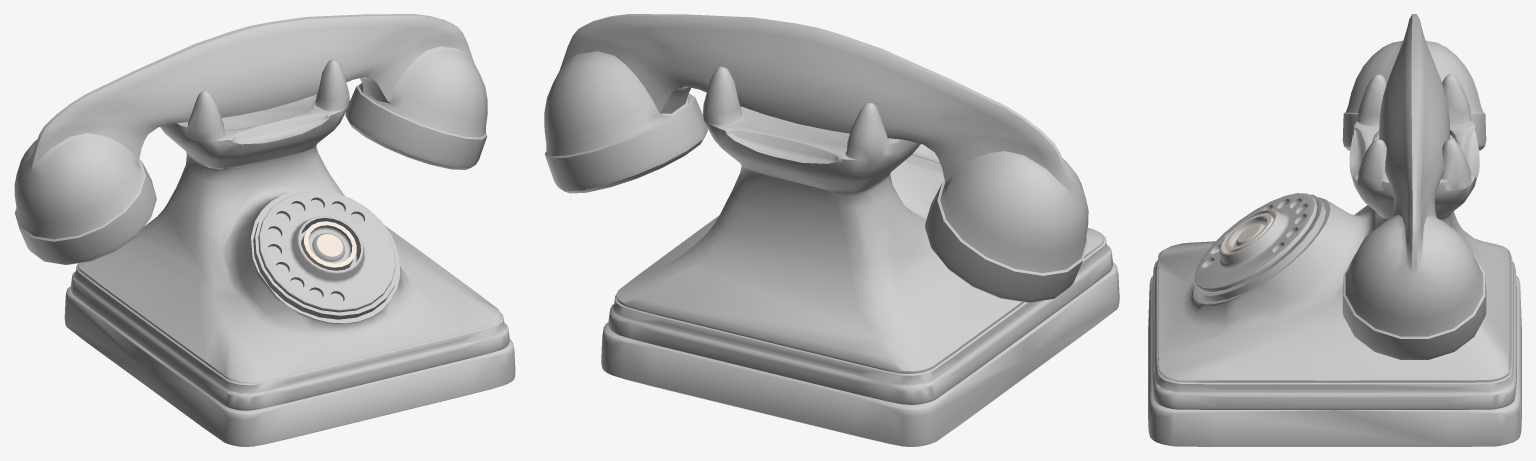
Rendered from Low Poly Telephone.FBX.
The picture shows the model from 3 angles, left to right: view 1: azimuth 30°, elevation 25°; view 2: azimuth 150°, elevation 25°; view 3: azimuth 270°, elevation 25°; orthographic projection. The views are drawn at different scales.
Parts seen in each view (by area): view 1: Layer0_001_001, Telephone_receiver_lowpoly_Sphere_001, Group_001, Group_002; view 2: Layer0_001_001, Telephone_receiver_lowpoly_Sphere_001; view 3: Layer0_001_001, Telephone_receiver_lowpoly_Sphere_001, Group_001, Group_002.
Part boxes in pixels (left/top/right/bottom): Layer0_001_001: left=64, top=59, right=515, bottom=446; Telephone_receiver_lowpoly_Sphere_001: left=14, top=14, right=487, bottom=264; Group_001: left=258, top=191, right=395, bottom=312; Group_002: left=253, top=190, right=399, bottom=319; Layer0_001_001: left=601, top=66, right=1119, bottom=446; Telephone_receiver_lowpoly_Sphere_001: left=544, top=14, right=1088, bottom=302; Layer0_001_001: left=1148, top=74, right=1521, bottom=446; Telephone_receiver_lowpoly_Sphere_001: left=1342, top=14, right=1486, bottom=359; Group_001: left=1194, top=193, right=1317, bottom=291; Group_002: left=1193, top=194, right=1325, bottom=301.
Bounding box in the file's own units: 13.26 × 8.25 × 9.16.
